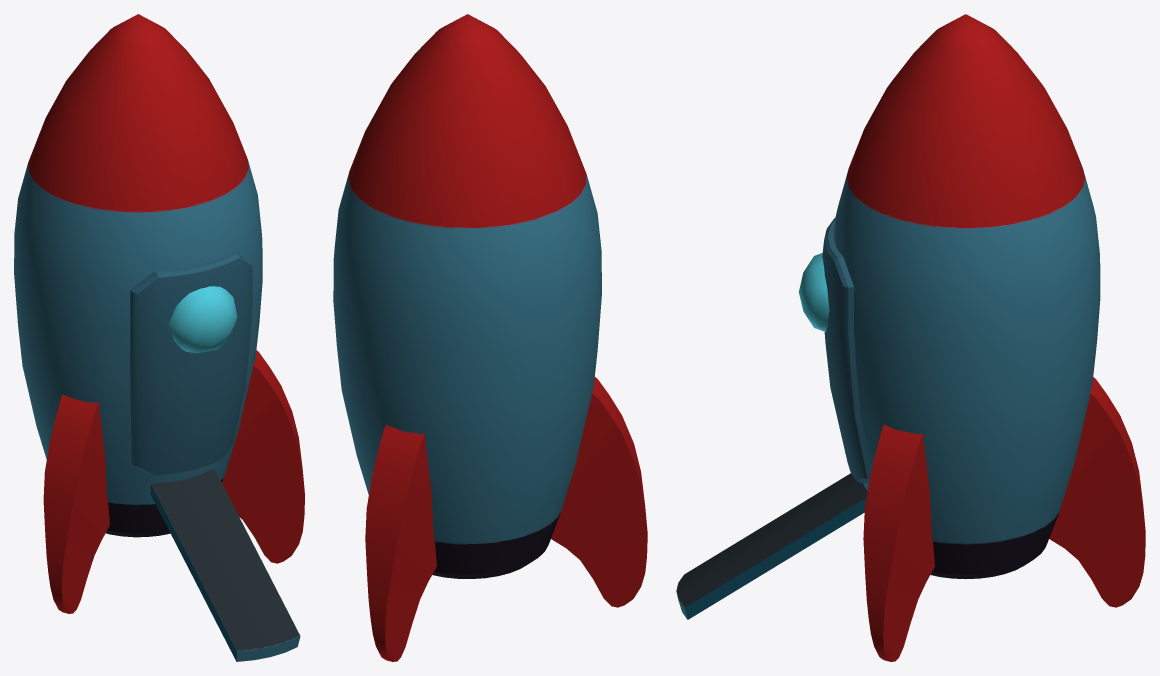
File: rocket redo.fbx
The picture shows the model from 3 angles, left to right: view 1: azimuth 30°, elevation 25°; view 2: azimuth 150°, elevation 25°; view 3: azimuth 270°, elevation 25°; orthographic projection. The views are drawn at different scales.
Visible parts, largest first — view 1: body, fin left, fin right, glass; view 2: body, fin right, fin back; view 3: body, fin back, fin left, glass.
Boxes of the visible parts, left/top/right/bottom form: body: left=14, top=14, right=300, bottom=661; fin left: left=222, top=350, right=304, bottom=563; fin right: left=43, top=394, right=109, bottom=613; glass: left=168, top=286, right=237, bottom=353; body: left=333, top=14, right=601, bottom=578; fin right: left=551, top=377, right=647, bottom=607; fin back: left=365, top=425, right=436, bottom=661; body: left=676, top=14, right=1100, bottom=619; fin back: left=1049, top=377, right=1145, bottom=607; fin left: left=863, top=424, right=934, bottom=661; glass: left=799, top=253, right=829, bottom=331.
Bounding box in the file's own units: 190 × 385 × 277.
